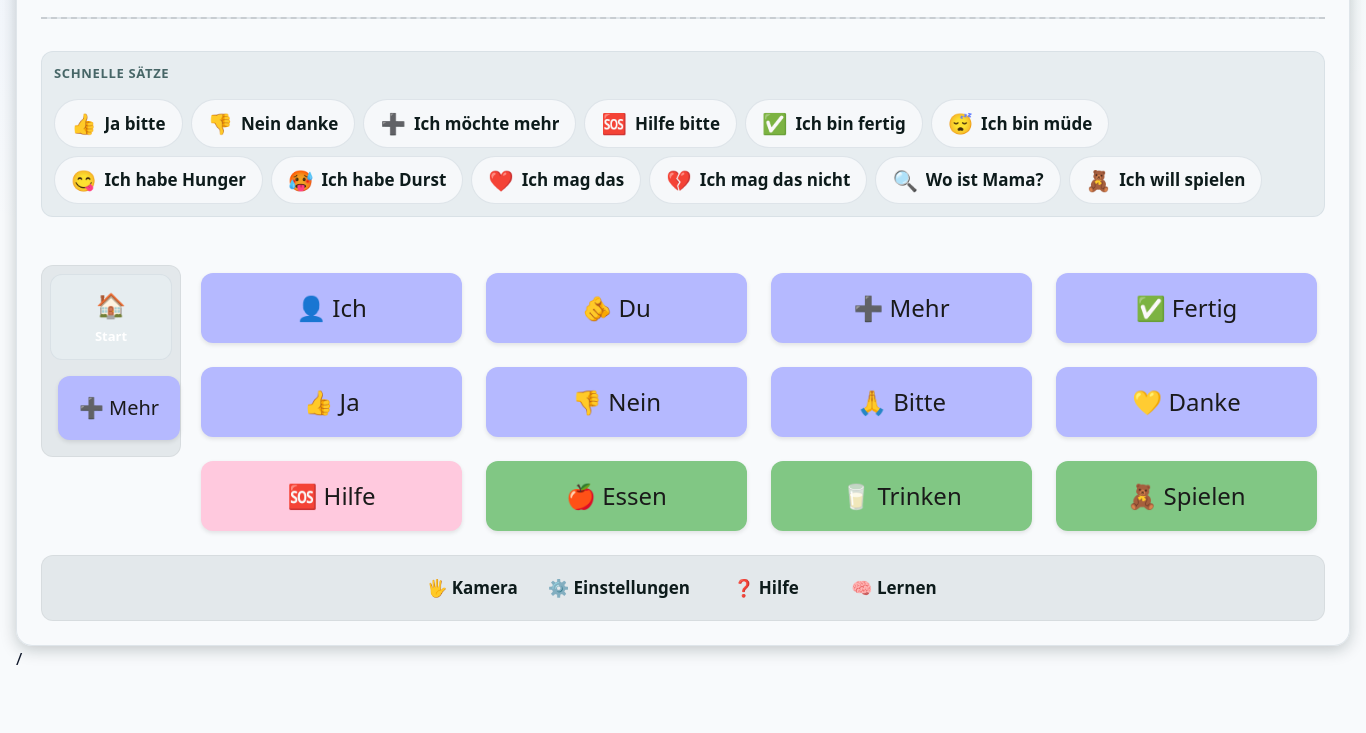
Test: MetacomBoard › navigates to a category board and back
(page scrolled)
Click the button "🍎 Essen". click: point(616, 496)
box: [486, 461, 747, 531]
(page scrolled)
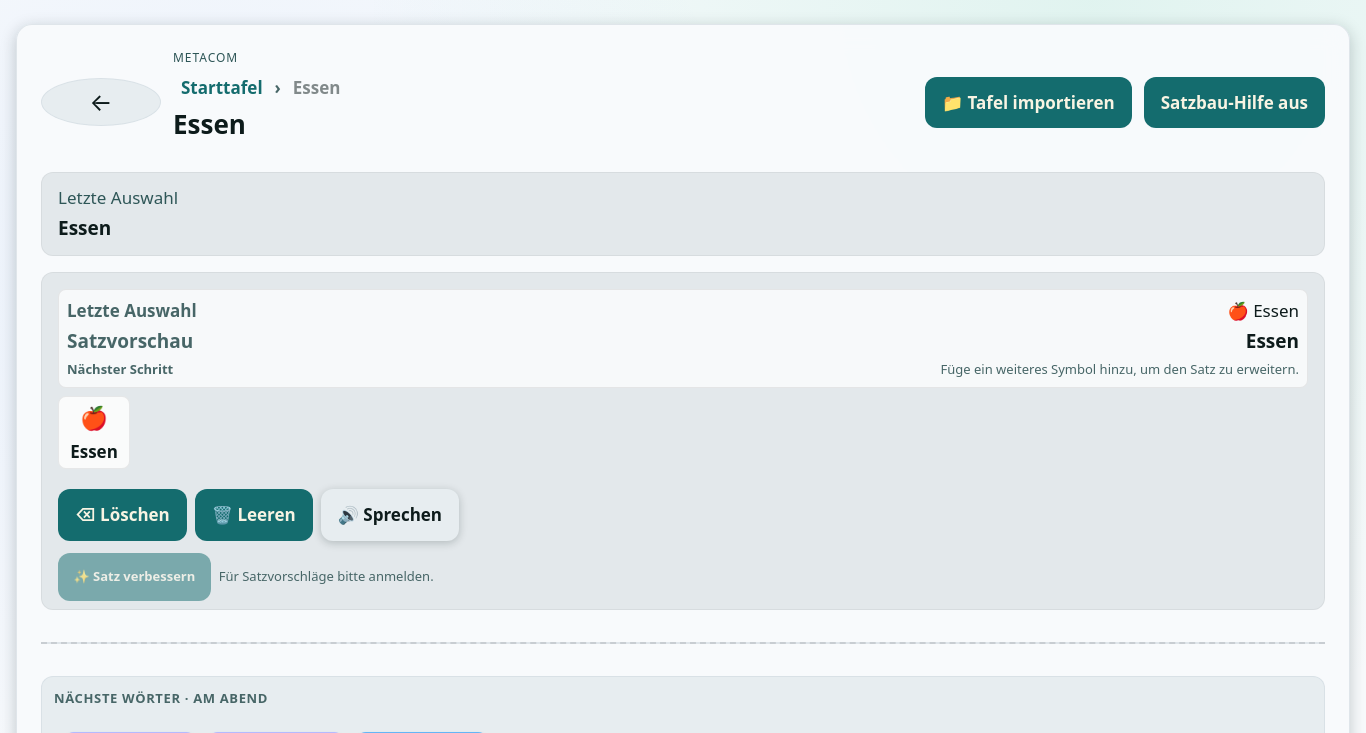
Now the heading "Essen" is shown, box [173, 106, 246, 142]
Click the button named "Zurück". click: point(101, 102)
box: [41, 78, 161, 126]
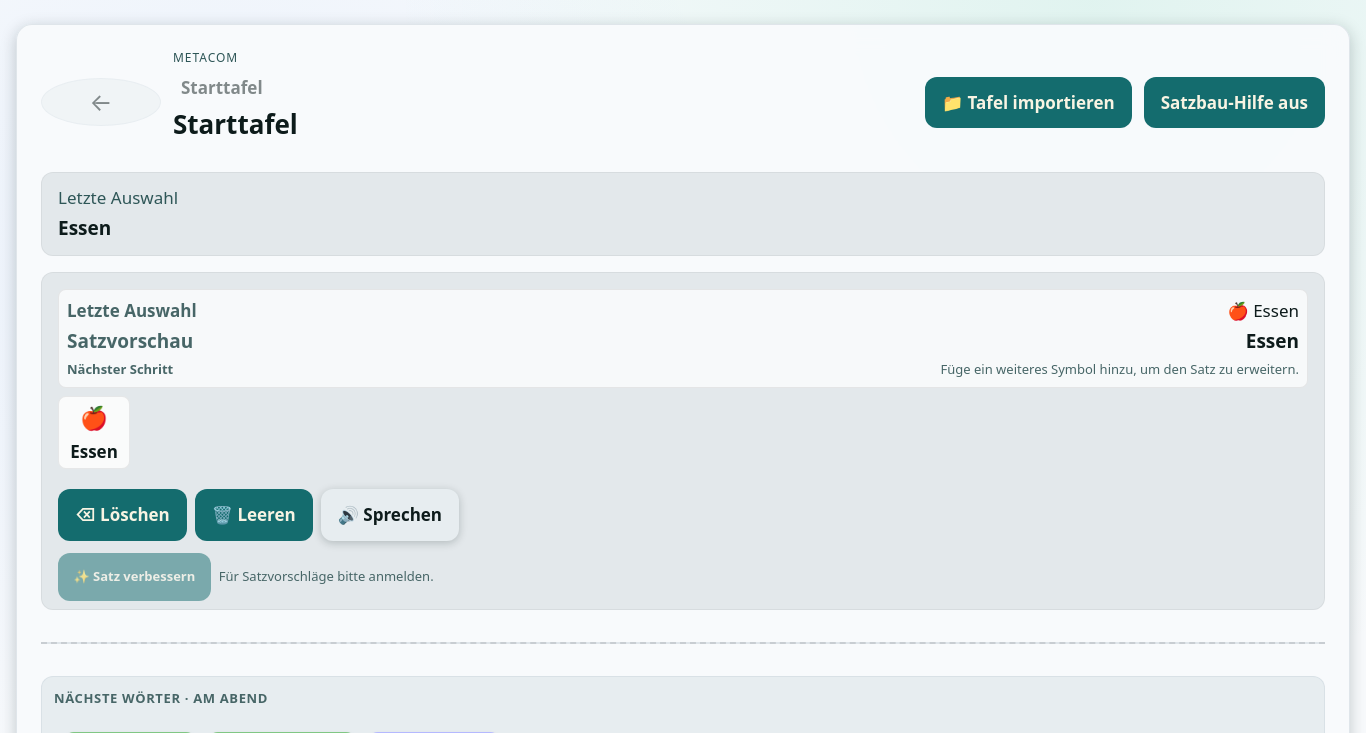
Now the heading "Starttafel" is shown, box [173, 104, 298, 144]
